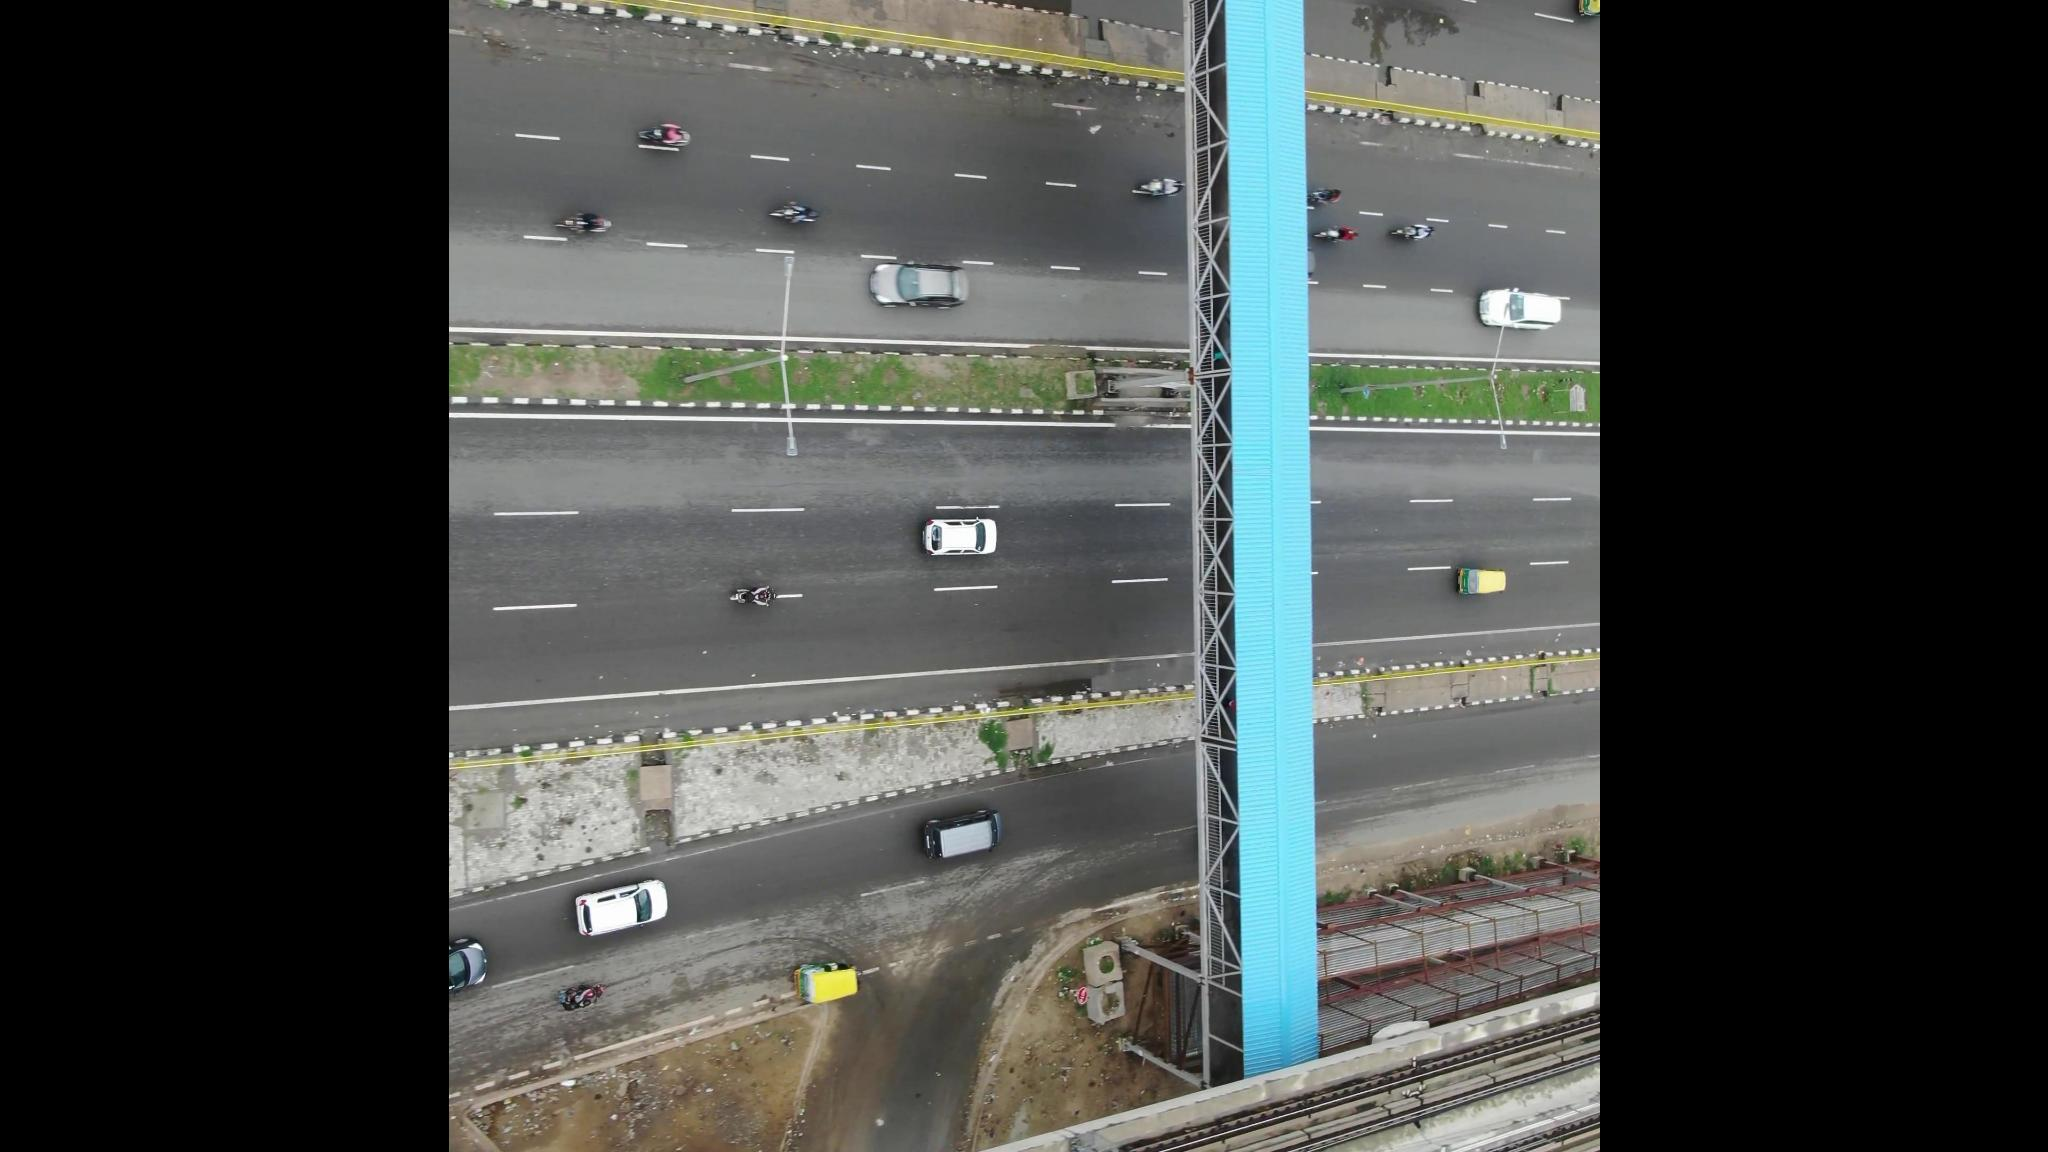Waterlogging: (1335, 1, 1550, 100), (938, 1, 1145, 37)
